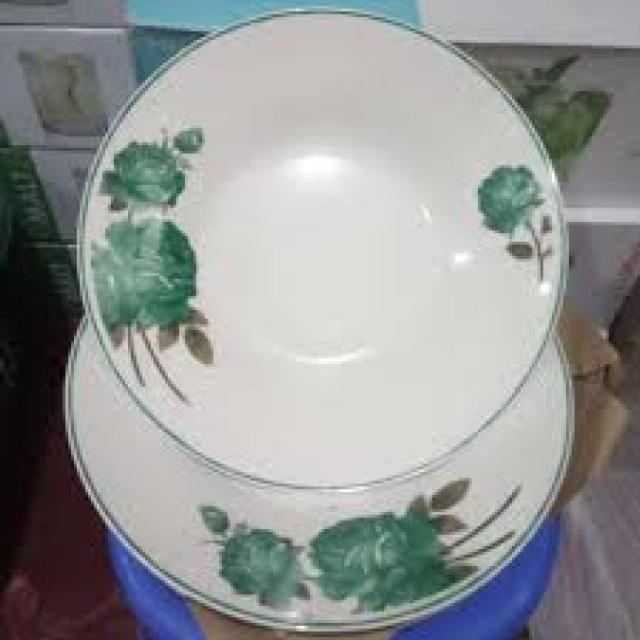Plate: (74, 4, 582, 496)
